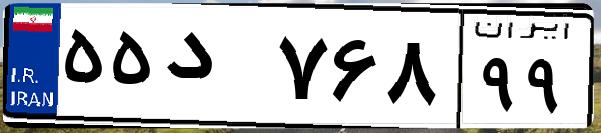5: (57, 26, 110, 100), (110, 28, 158, 98)
6: (330, 28, 385, 110)
7: (270, 28, 330, 110)
8: (385, 28, 445, 110)
9: (475, 38, 525, 113), (525, 38, 570, 115)
د: (158, 20, 270, 120)
